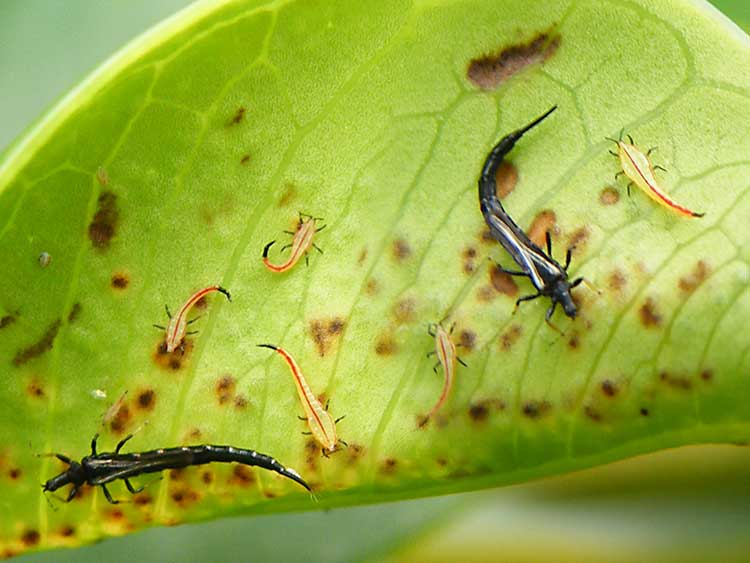Thrips: (43, 419, 352, 523), (472, 107, 600, 327), (254, 330, 362, 464), (608, 120, 708, 229), (247, 195, 335, 297), (422, 304, 476, 440), (150, 283, 226, 367)
